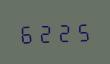five: (72, 19, 89, 42)
six: (18, 21, 35, 44)
two: (36, 20, 53, 44), (54, 20, 71, 43)
